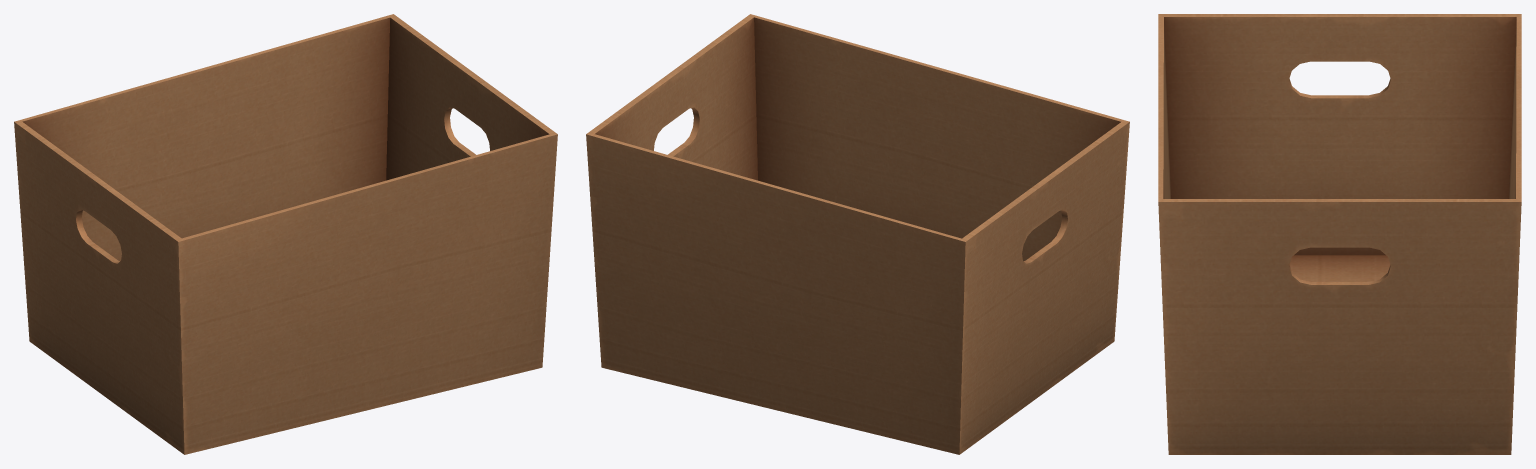
Rendered from OfficeBox01_2.FBX.
3 renders of one model, left to right at view 1: azimuth 30°, elevation 25°; view 2: azimuth 150°, elevation 25°; view 3: azimuth 270°, elevation 25°, orthographic. The views are drawn at different scales.
Visible parts, largest first — view 1: OfficeBox01_2; view 2: OfficeBox01_2; view 3: OfficeBox01_2.
Boxes of the visible parts, left/top/right/bottom form: OfficeBox01_2: left=14, top=14, right=557, bottom=454; OfficeBox01_2: left=586, top=14, right=1129, bottom=454; OfficeBox01_2: left=1158, top=14, right=1521, bottom=454.
Size of what is drawn, in the model's own units: 0.4241 by 0.25 by 0.3181.
